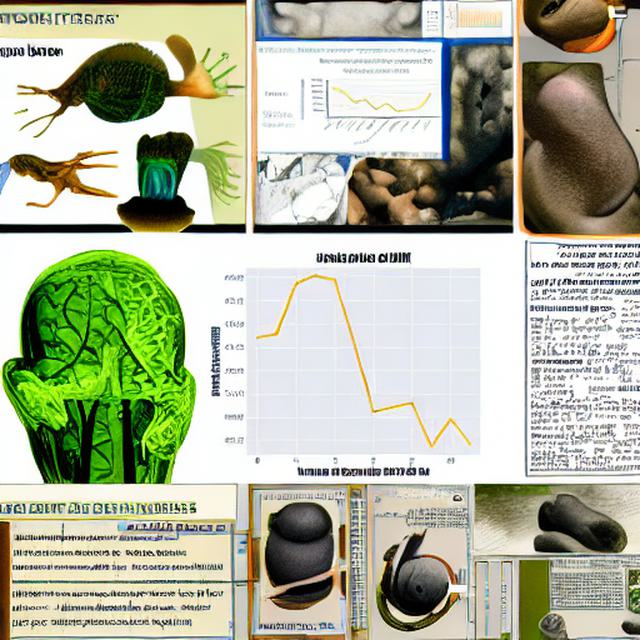Graph: (197, 238, 522, 482), (298, 55, 439, 149), (450, 1, 504, 31)
